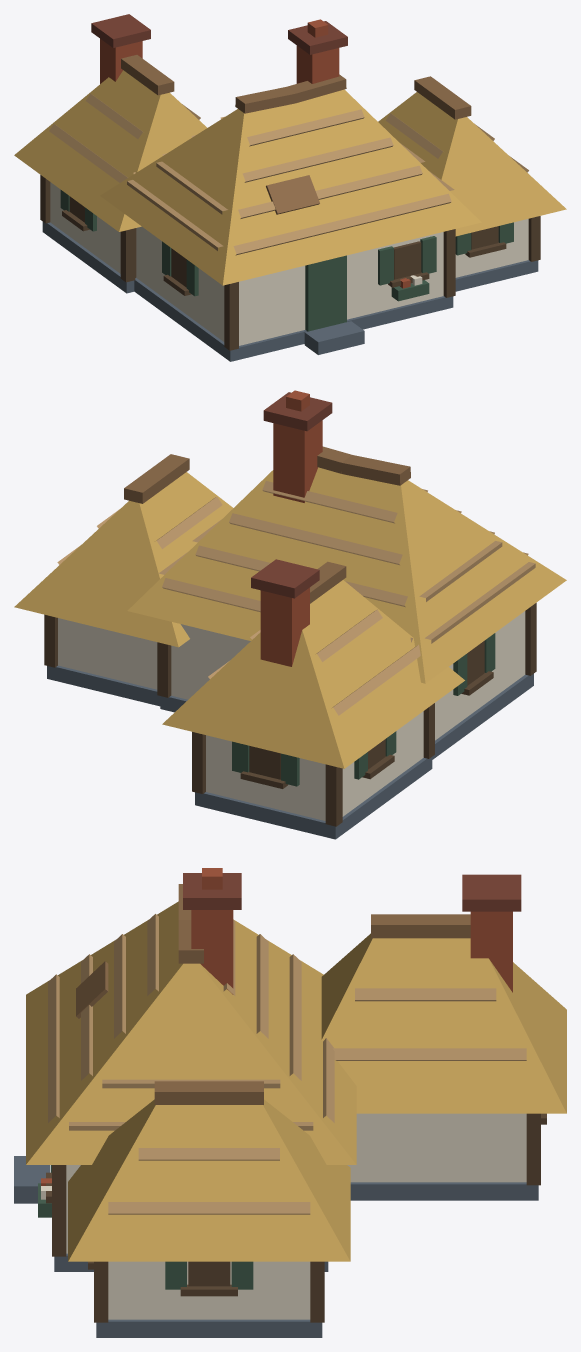
Rendered from cottage-a2.glb.
3 renders of one model, top to bottom at view 1: azimuth 30°, elevation 25°; view 2: azimuth 150°, elevation 25°; view 3: azimuth 270°, elevation 25°, orthographic. The views are drawn at different scales.
Visible parts, largest first — view 1: house, accent; view 2: house, accent; view 3: house, accent.
Boxes of the visible parts, x1,y1,x2,y2 form: house: (14, 14, 566, 361); accent: (60, 190, 513, 331); house: (14, 390, 566, 839); accent: (232, 633, 495, 786); house: (14, 868, 566, 1337); accent: (38, 1165, 253, 1289).
Bounding box in the file's own units: 9.5 × 6.41 × 9.2.
1 material, 1 textured.
